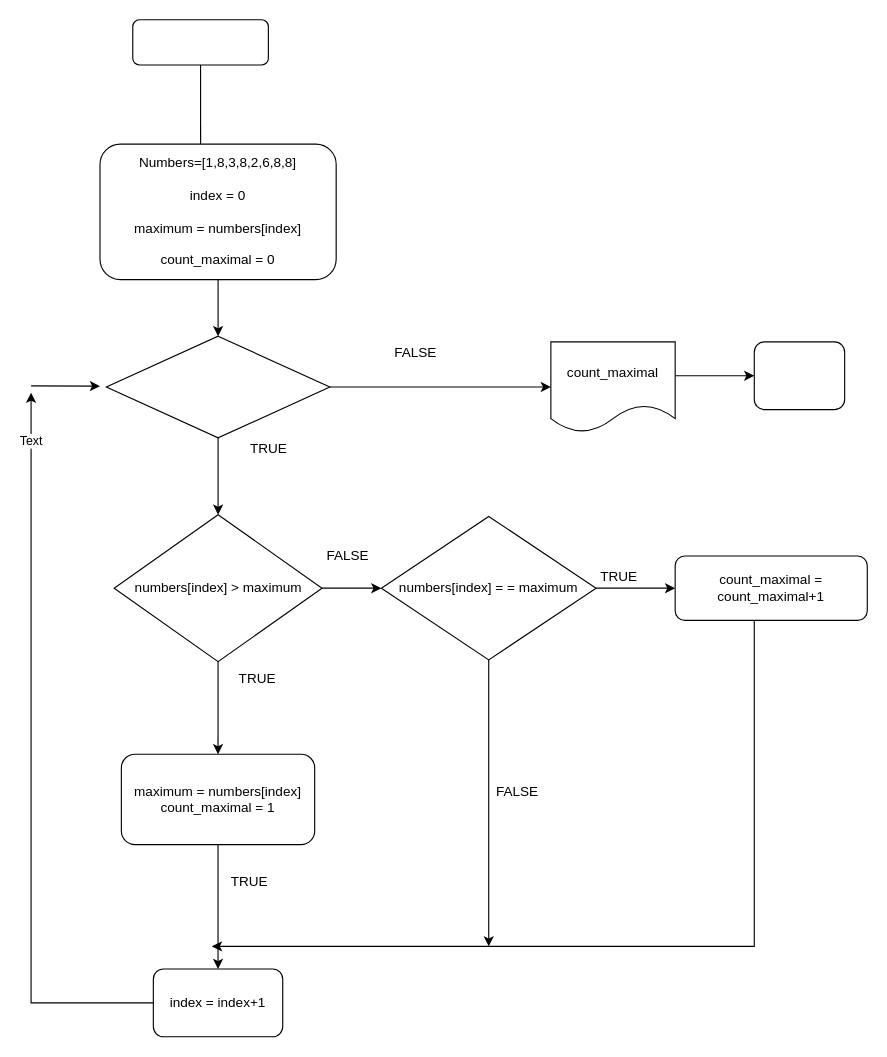
This 887x1057 diagram has some shape labels left out. Here are the shapes that lost their labels. From the top down, the centre of each, then its label:
At point (200, 42): "start".
At point (217, 386): "index < numbers.length".
At point (799, 375): "End".
